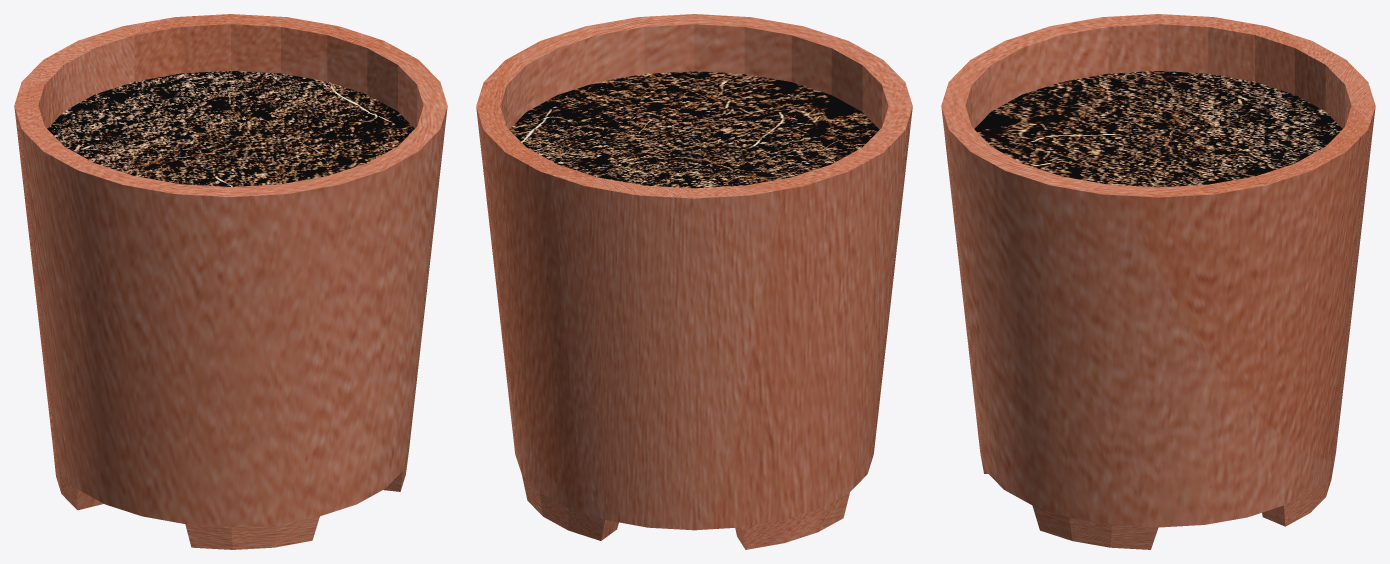
The model's file is planterPot1.fbx.
3 renders of one model, left to right at view 1: azimuth 30°, elevation 25°; view 2: azimuth 150°, elevation 25°; view 3: azimuth 270°, elevation 25°, orthographic.
Parts seen in each view (by area): view 1: pCylinder1; view 2: pCylinder1; view 3: pCylinder1.
Part boxes in pixels (x1,y1,x2,y2): pCylinder1: [14, 14, 447, 549]; pCylinder1: [476, 14, 912, 549]; pCylinder1: [941, 14, 1375, 549].
Size of the model in its own units: 24.57 by 23.14 by 24.57.
3 materials, 2 textured.
